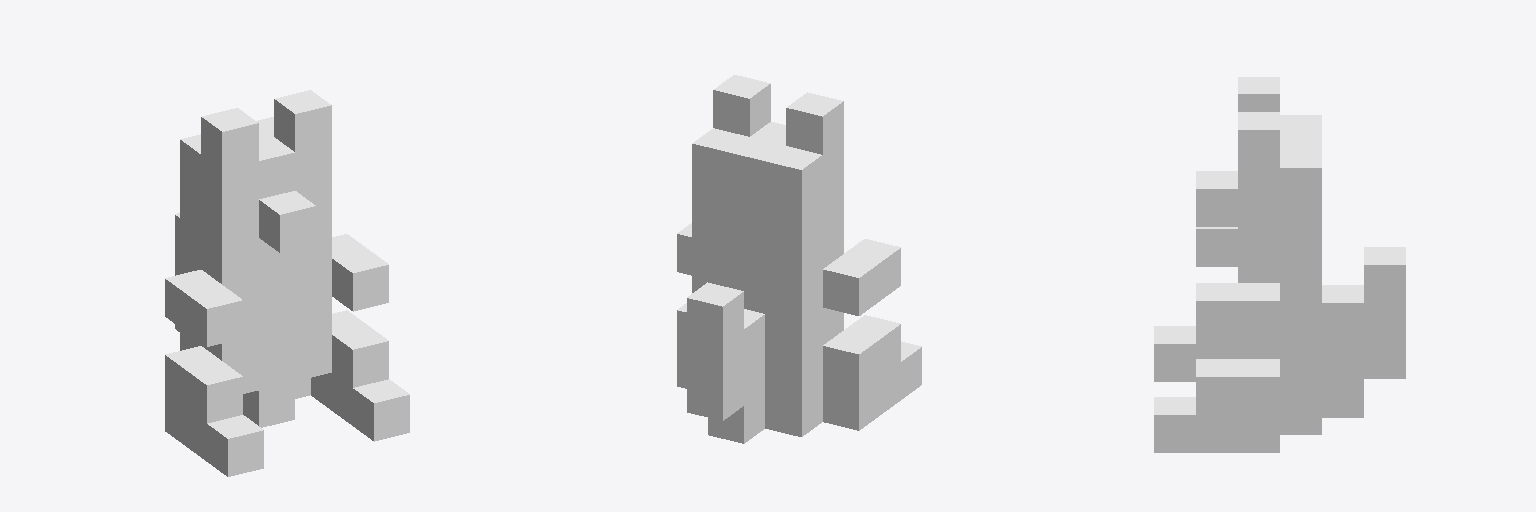
File: Animal_Squirrel_02.obj
The picture shows the model from 3 angles: view 1: azimuth 30°, elevation 25°; view 2: azimuth 150°, elevation 25°; view 3: azimuth 270°, elevation 25°; orthographic projection.
Visible parts, largest first — view 1: object 1; view 2: object 1; view 3: object 1.
Boxes of the visible parts, <box> form: object 1: <box>165,90,409,476</box>; object 1: <box>677,75,921,443</box>; object 1: <box>1154,77,1405,452</box>.
Size of the model in its own units: 0.5 by 0.8 by 0.6.